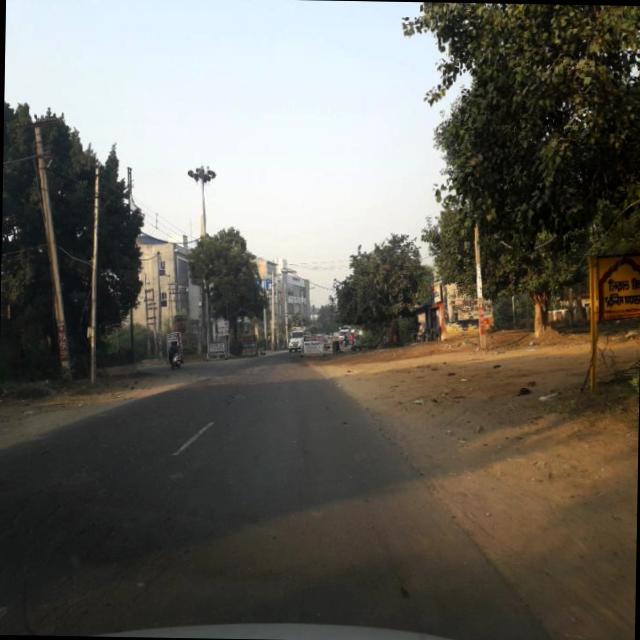crack: (0, 448, 100, 532)
